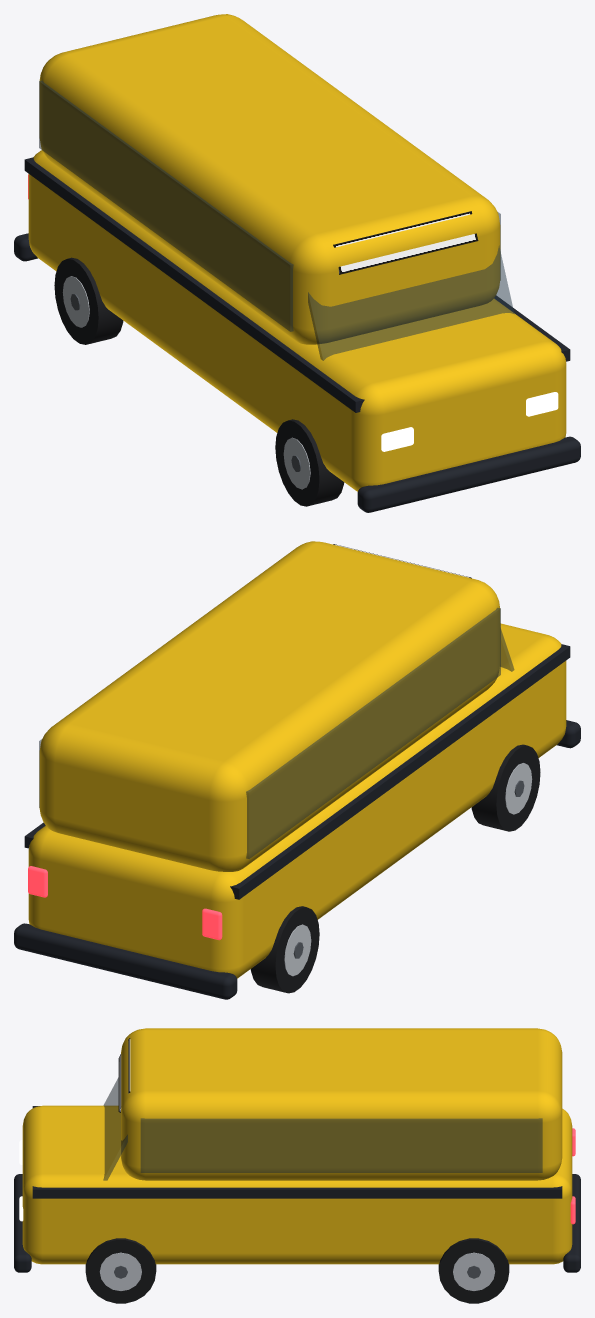
The model's file is dolmus.glb.
3 views of the same model, one above another, from view 1: azimuth 30°, elevation 25°; view 2: azimuth 150°, elevation 25°; view 3: azimuth 270°, elevation 25° (orthographic). The views are drawn at different scales.
Parts seen in each view (by area): view 1: dolmus, teker (×2); view 2: dolmus, teker (×2); view 3: dolmus, teker (×2).
Boxes of the visible parts, box(x1,y1,x2,y2) form: dolmus: box(14, 14, 580, 512); teker (×2): box(54, 257, 344, 506); dolmus: box(14, 541, 580, 999); teker (×2): box(250, 744, 540, 993); dolmus: box(14, 1028, 580, 1272); teker (×2): box(85, 1238, 509, 1303).
Size of the model in its own units: 2.11 by 2.25 by 5.78.
9 materials, 1 textured.
